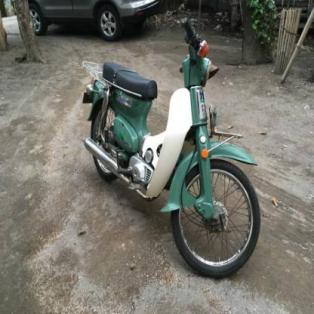Motocicleta: (76, 14, 271, 280)
